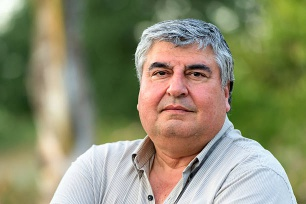male: (128, 47, 231, 146)
